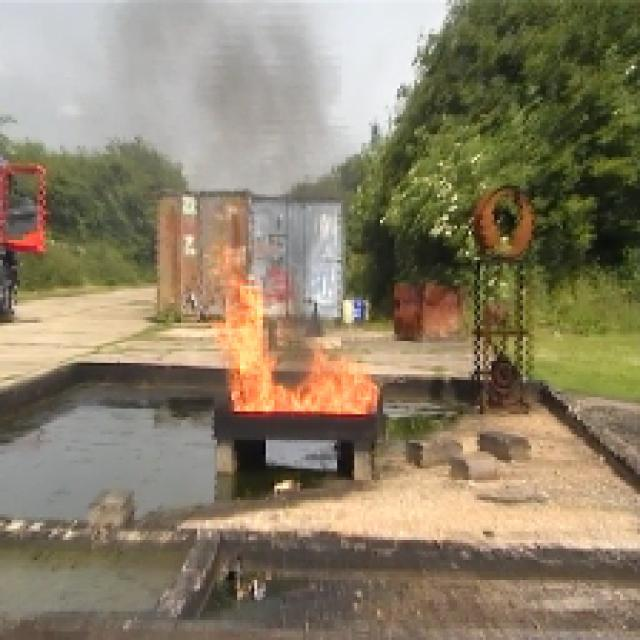Fire: (230, 273, 278, 401), (300, 365, 374, 408)
Smoke: (202, 31, 336, 160)
